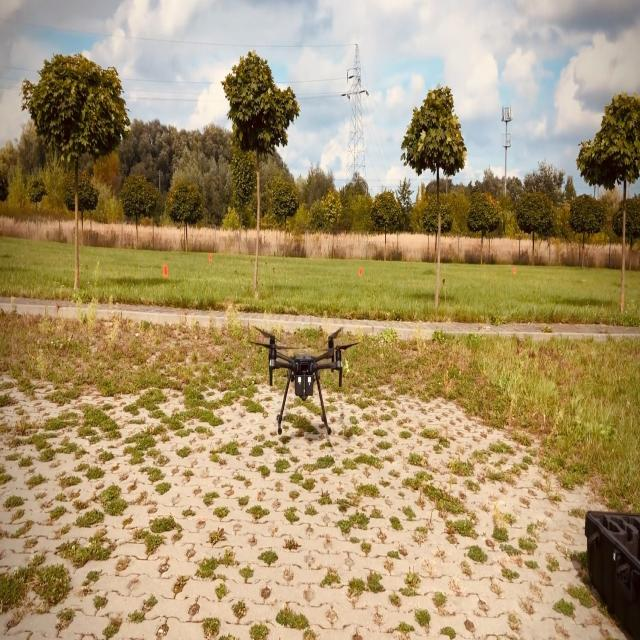drone: (248, 322, 359, 436)
